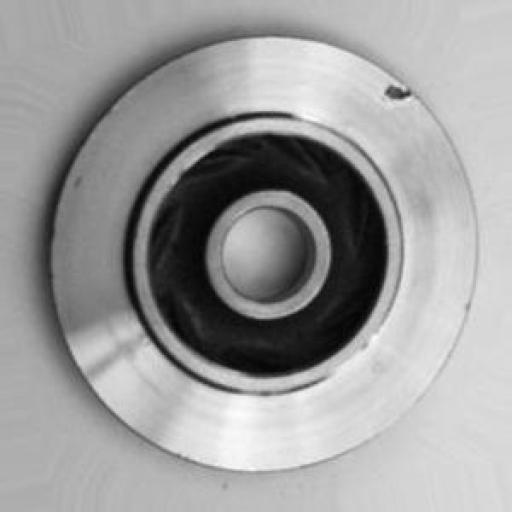defect: (351, 54, 434, 132)
